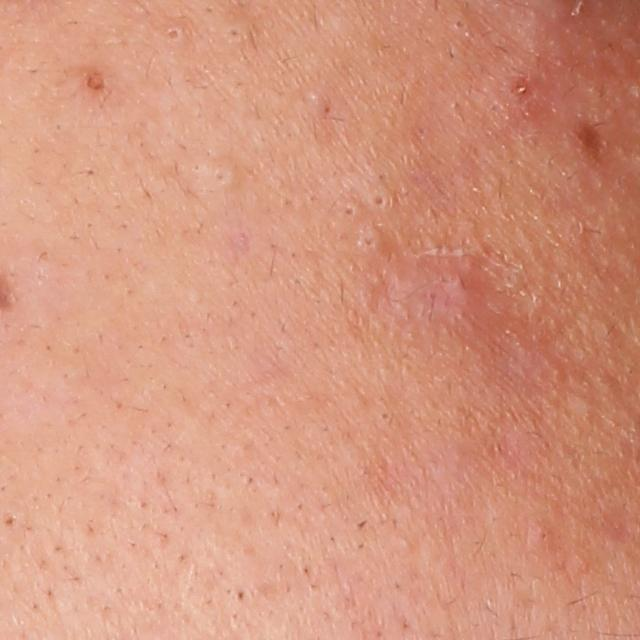comedo: (204, 161, 241, 193), (353, 224, 385, 258), (157, 23, 190, 45), (339, 202, 361, 231), (533, 524, 555, 551), (222, 22, 243, 49), (369, 188, 392, 212), (85, 68, 108, 91), (0, 511, 18, 532), (452, 16, 469, 31), (377, 409, 393, 423)
papule: (436, 266, 479, 305)
